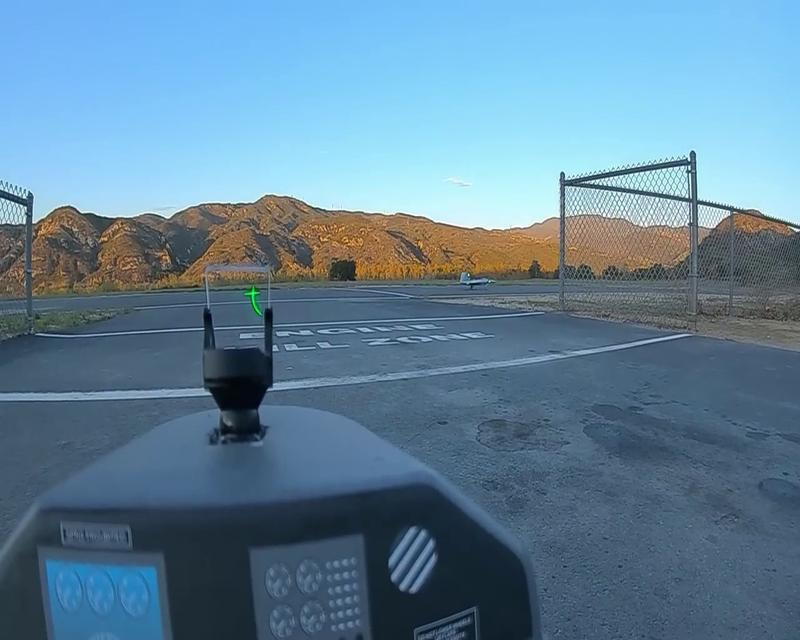UAV: (454, 270, 496, 292)
